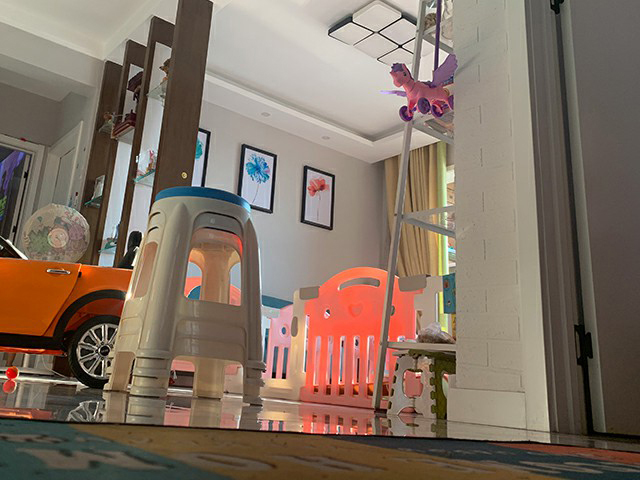carpet: (1, 415, 640, 480)
stool: (103, 185, 268, 407)
